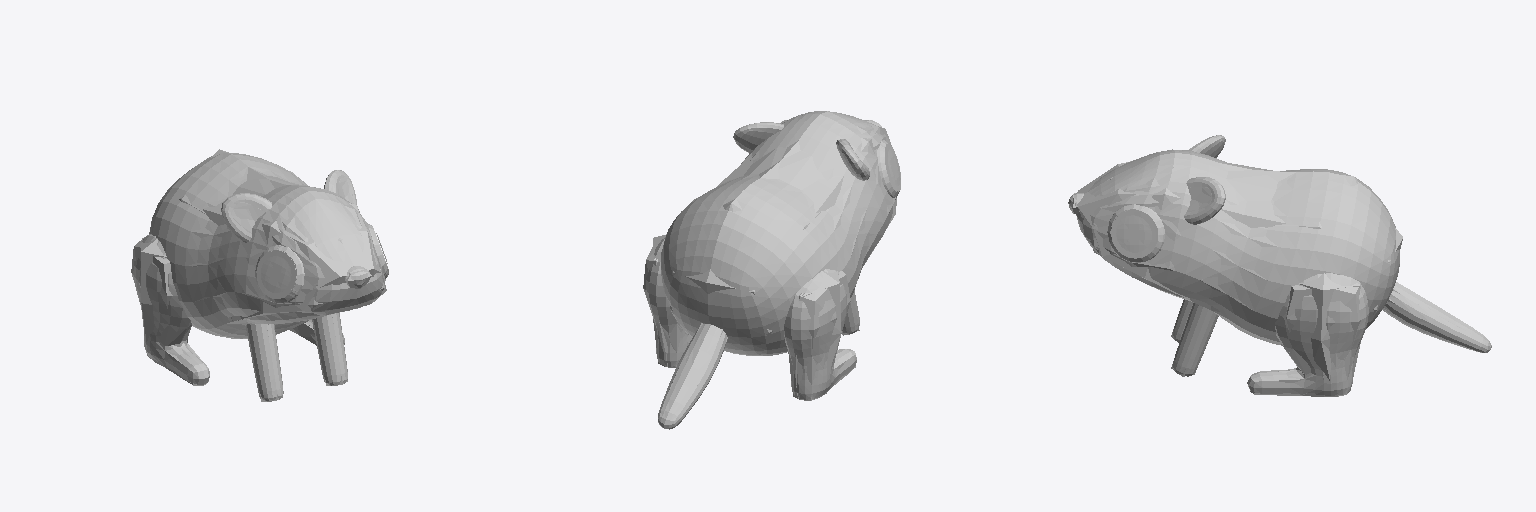
Rendered from Muskrat_LOD_All.obj.
The picture shows the model from 3 angles: view 1: azimuth 30°, elevation 25°; view 2: azimuth 150°, elevation 25°; view 3: azimuth 270°, elevation 25°; orthographic projection.
Parts seen in each view (by area): view 1: Muskrat_LOD0, Muskrat_LOD2, Muskrat_LOD1, Muskrat_LOD3; view 2: Muskrat_LOD0, Muskrat_LOD2, Muskrat_LOD3, Muskrat_LOD1; view 3: Muskrat_LOD0, Muskrat_LOD2, Muskrat_LOD3, Muskrat_LOD1.
Boxes of the visible parts, <box> form: Muskrat_LOD0: <box>133,152,388,401</box>; Muskrat_LOD2: <box>131,171,387,385</box>; Muskrat_LOD1: <box>140,167,388,385</box>; Muskrat_LOD3: <box>141,149,380,401</box>; Muskrat_LOD0: <box>646,111,900,429</box>; Muskrat_LOD2: <box>643,115,900,384</box>; Muskrat_LOD3: <box>653,116,881,398</box>; Muskrat_LOD1: <box>658,114,896,401</box>; Muskrat_LOD0: <box>1068,135,1491,395</box>; Muskrat_LOD2: <box>1077,161,1377,394</box>; Muskrat_LOD3: <box>1070,163,1402,380</box>; Muskrat_LOD1: <box>1090,154,1470,396</box>.
Bounding box in the file's own units: 0.4798 × 0.5034 × 0.9351.